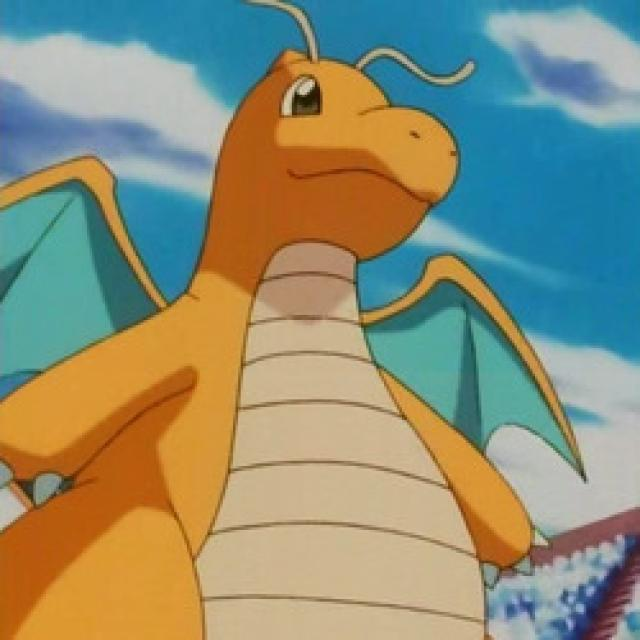Dragonite: (5, 38, 542, 640)
